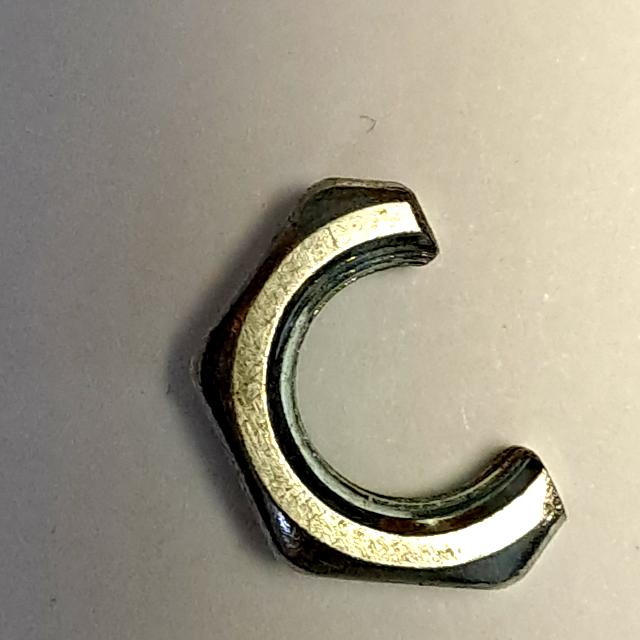Fracture: (165, 158, 588, 606)
